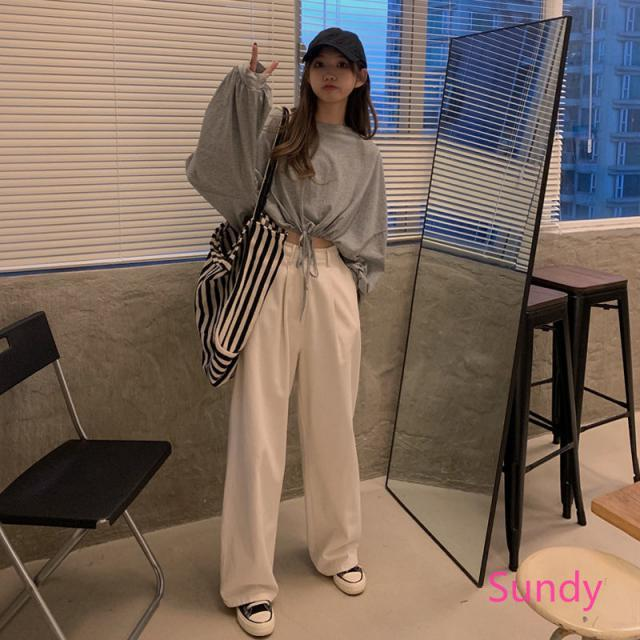Shirt: (184, 63, 393, 293)
